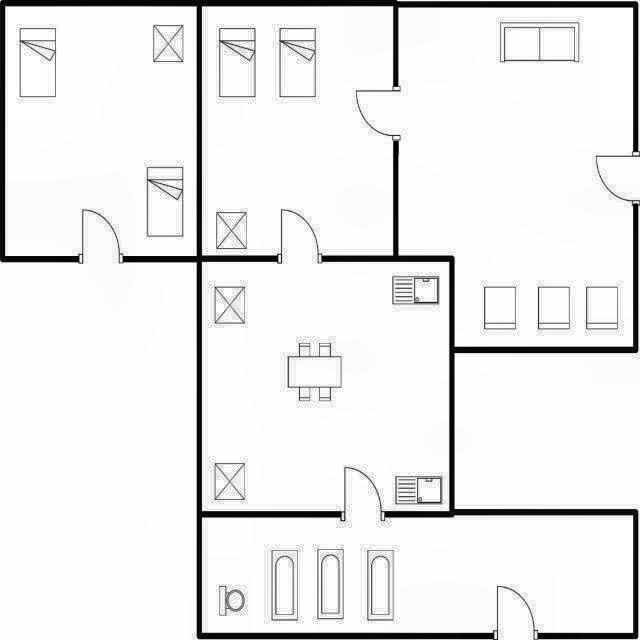room: (398, 8, 633, 347), (202, 262, 449, 511), (202, 515, 633, 633), (5, 6, 197, 256), (202, 6, 393, 256)
